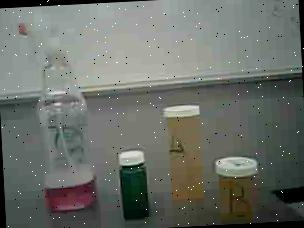Bottle A: (162, 102, 210, 210)
Bottle B: (212, 150, 259, 224)
Bottle C: (116, 144, 154, 224)
hazard: (15, 16, 100, 218)
